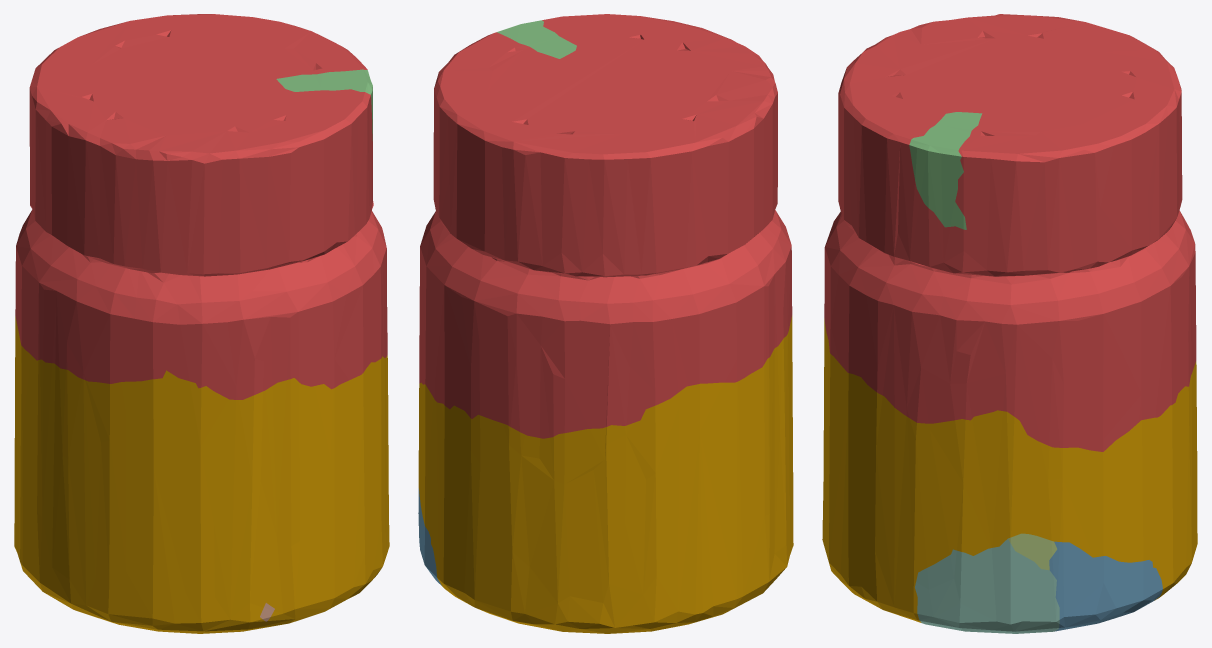
The model's file is fractured_58_8pcs.glb.
3 renders of one model, left to right at view 1: azimuth 30°, elevation 25°; view 2: azimuth 150°, elevation 25°; view 3: azimuth 270°, elevation 25°, orthographic.
Parts seen in each view (by area): view 1: piece_1.obj, piece_0.obj, piece_3.obj; view 2: piece_1.obj, piece_0.obj, piece_3.obj, piece_2.obj; view 3: piece_1.obj, piece_0.obj, piece_4.obj, piece_2.obj, piece_3.obj, piece_5.obj.
Part boxes in pixels (x1=…): piece_1.obj: x1=15, y1=14, x2=387, y2=399; piece_0.obj: x1=14, y1=316, x2=389, y2=633; piece_3.obj: x1=276, y1=69, x2=372, y2=140; piece_1.obj: x1=419, y1=14, x2=792, y2=438; piece_0.obj: x1=418, y1=315, x2=793, y2=633; piece_3.obj: x1=497, y1=20, x2=576, y2=58; piece_2.obj: x1=418, y1=488, x2=441, y2=585; piece_1.obj: x1=824, y1=14, x2=1196, y2=451; piece_0.obj: x1=822, y1=318, x2=1197, y2=622; piece_4.obj: x1=915, y1=539, x2=1059, y2=633; piece_2.obj: x1=1049, y1=541, x2=1162, y2=631; piece_3.obj: x1=909, y1=112, x2=982, y2=229; piece_5.obj: x1=1008, y1=533, x2=1057, y2=570.
Bounding box in the file's own units: 0.7073 × 1 × 0.707.
